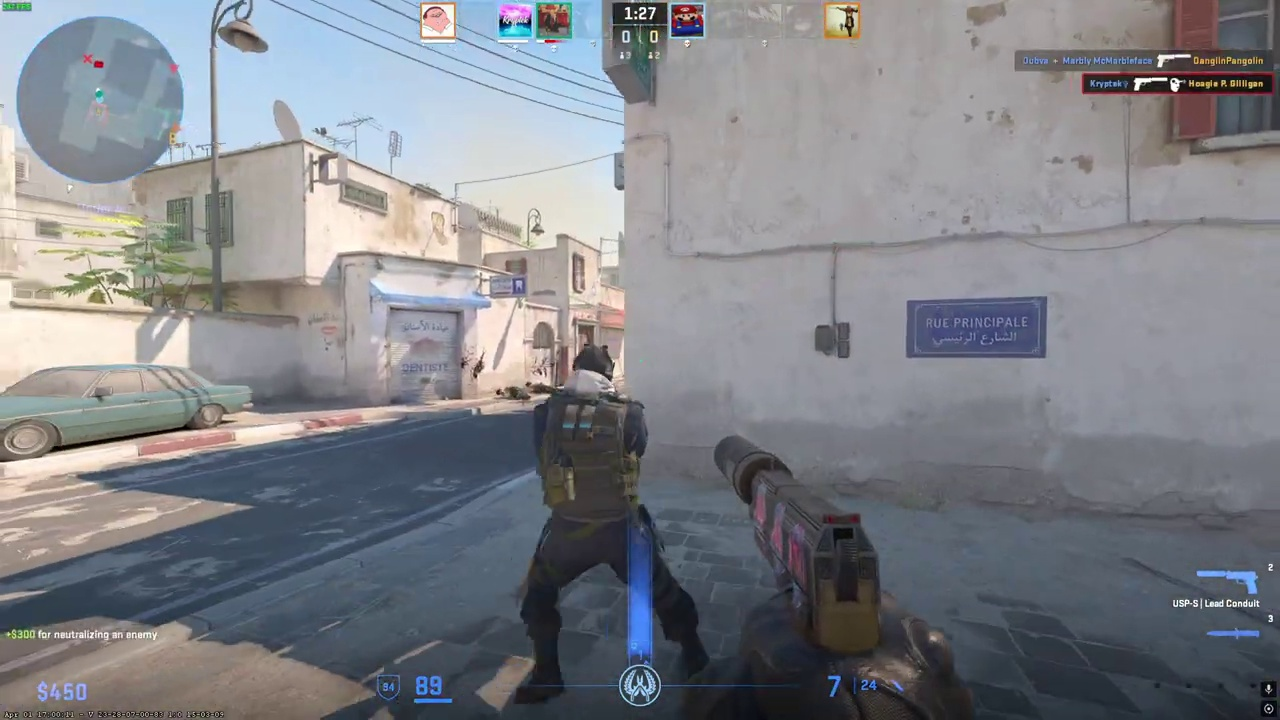CT: (513, 343, 685, 700)
